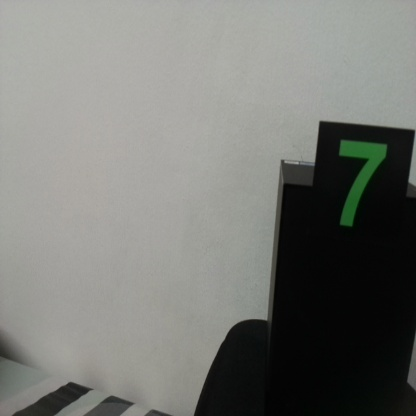id_7: (318, 121, 408, 275)
